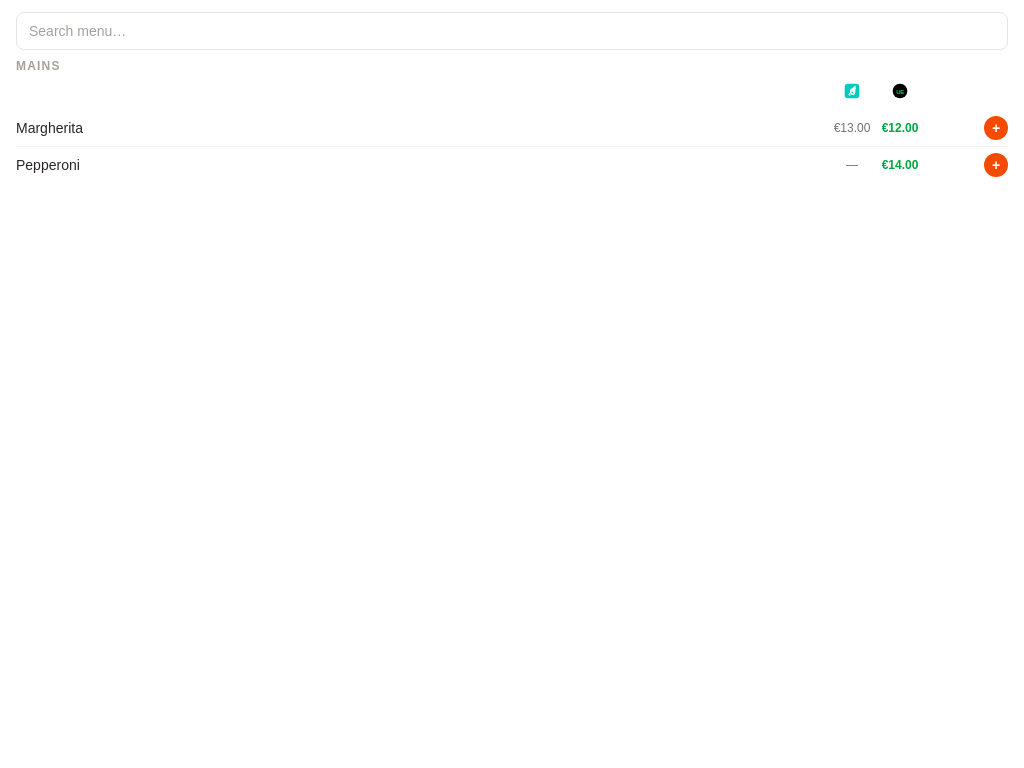
Test: MenuBrowser › closes DishModal when backdrop is clicked
This screenshot has width=1024, height=768.
Click the button "Margherita" at (49, 128), box [16,118,824,138]
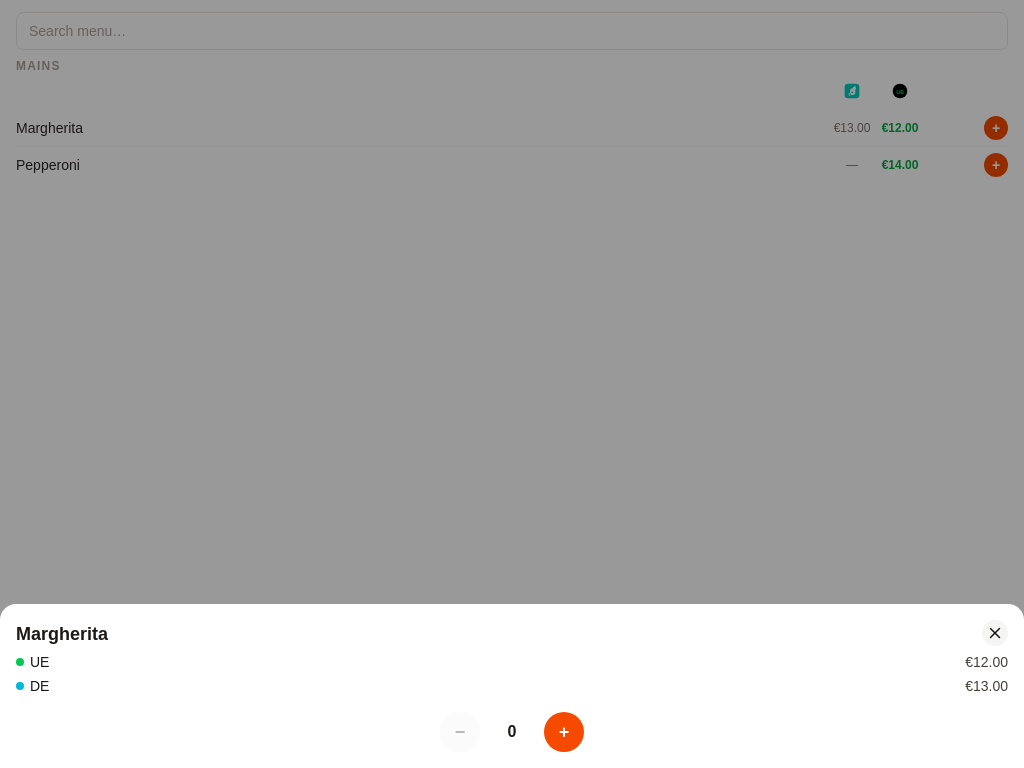
Now the dialog is shown
Click the element with test id "dish-modal-backdrop" at (512, 384), box [0,0,1023,767]
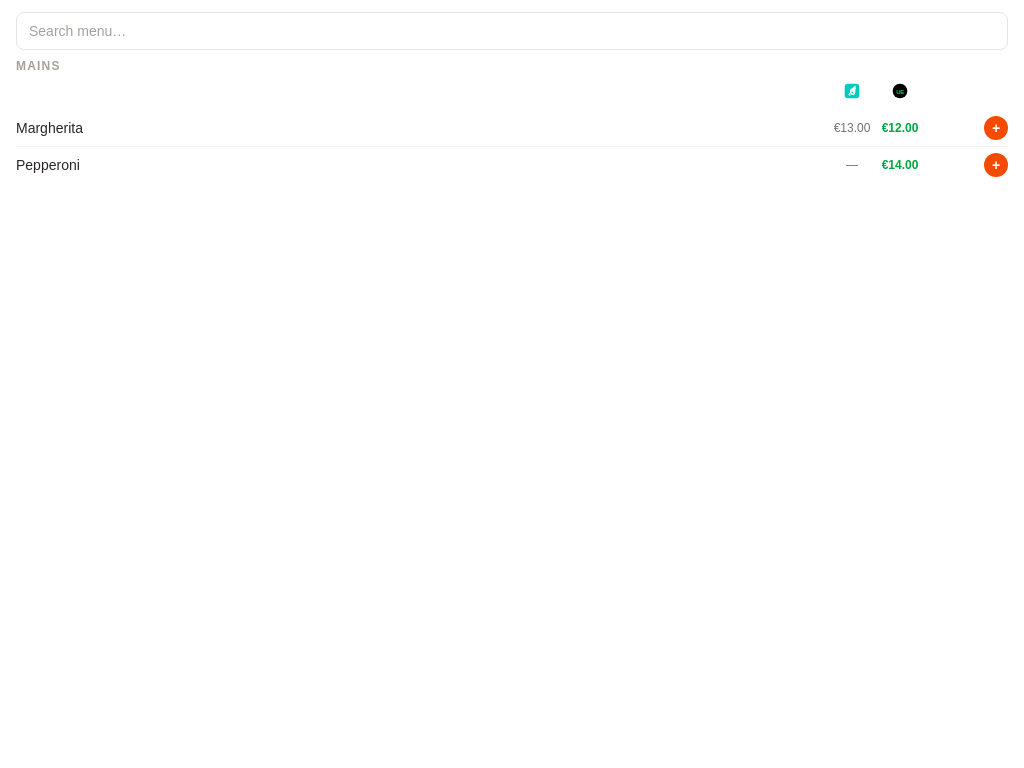
Now the dialog is gone
